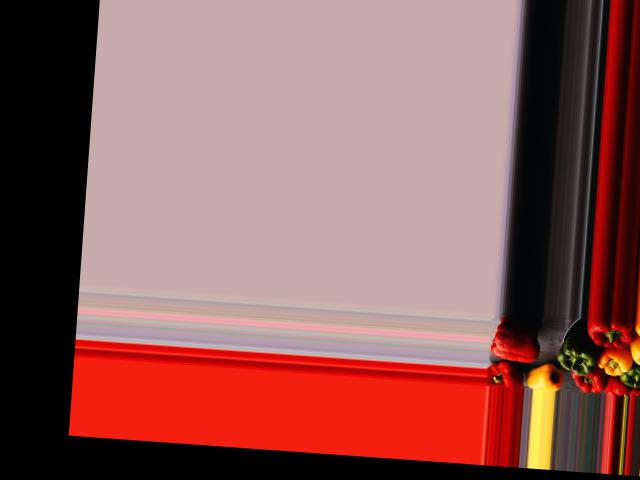bell_pepper: (484, 361, 525, 386)
